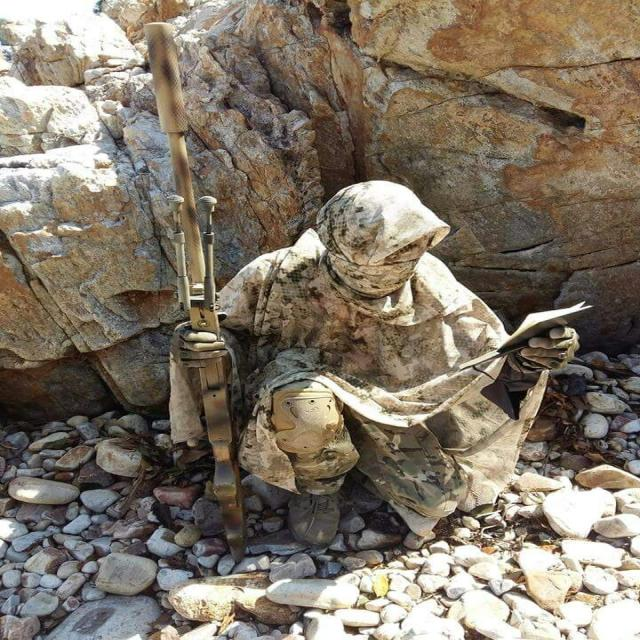Human: (143, 21, 580, 560)
